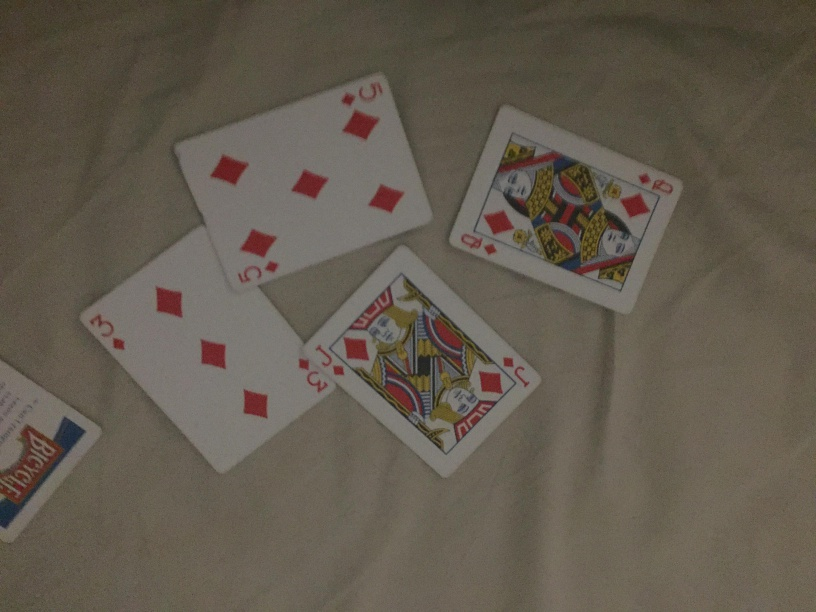3: (78, 221, 341, 479)
5: (171, 72, 435, 291)
jack: (300, 242, 544, 481)
queen: (446, 101, 682, 317)
